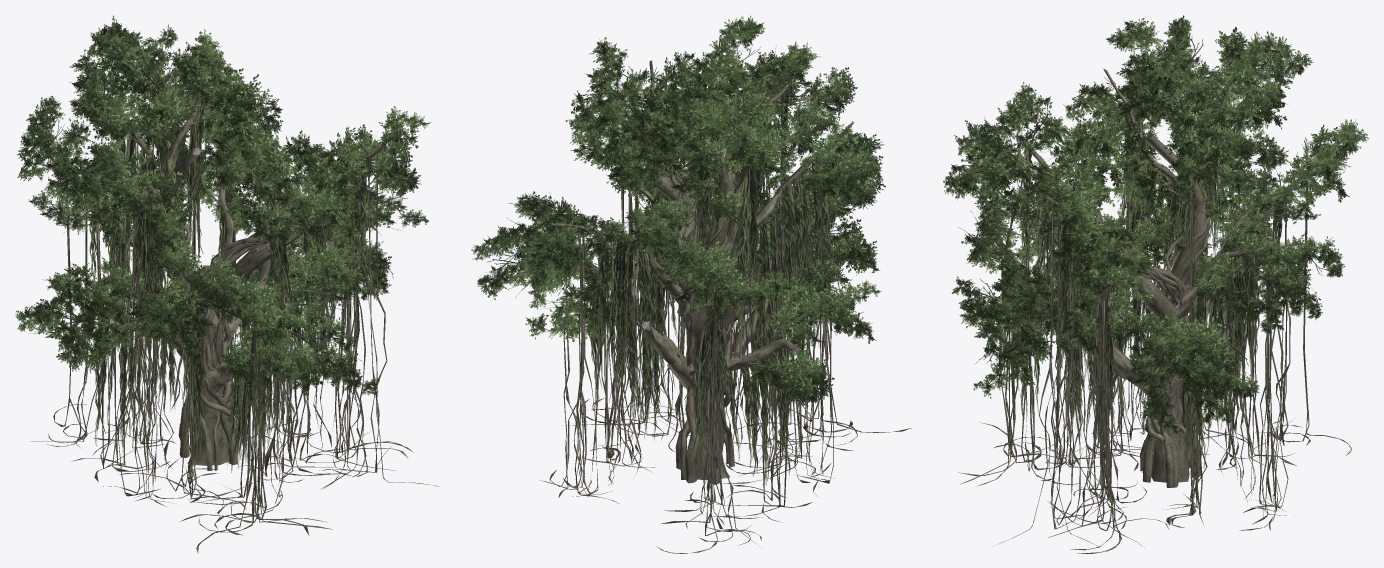
The model's file is banyan.glb.
3 views of the same model, side by side, from view 1: azimuth 30°, elevation 25°; view 2: azimuth 150°, elevation 25°; view 3: azimuth 270°, elevation 25° (orthographic). The views are drawn at different scales.
Parts seen in each view (by area): view 1: ChineseBanyan_Med_w; view 2: ChineseBanyan_Med_w; view 3: ChineseBanyan_Med_w.
Boxes of the visible parts, x1=… form: ChineseBanyan_Med_w: x1=15, y1=15, x2=439, y2=553; ChineseBanyan_Med_w: x1=471, y1=15, x2=911, y2=553; ChineseBanyan_Med_w: x1=943, y1=15, x2=1368, y2=553.
Size of the model in its own units: 15.84 by 18.01 by 15.57.
7 materials, 7 textured.
